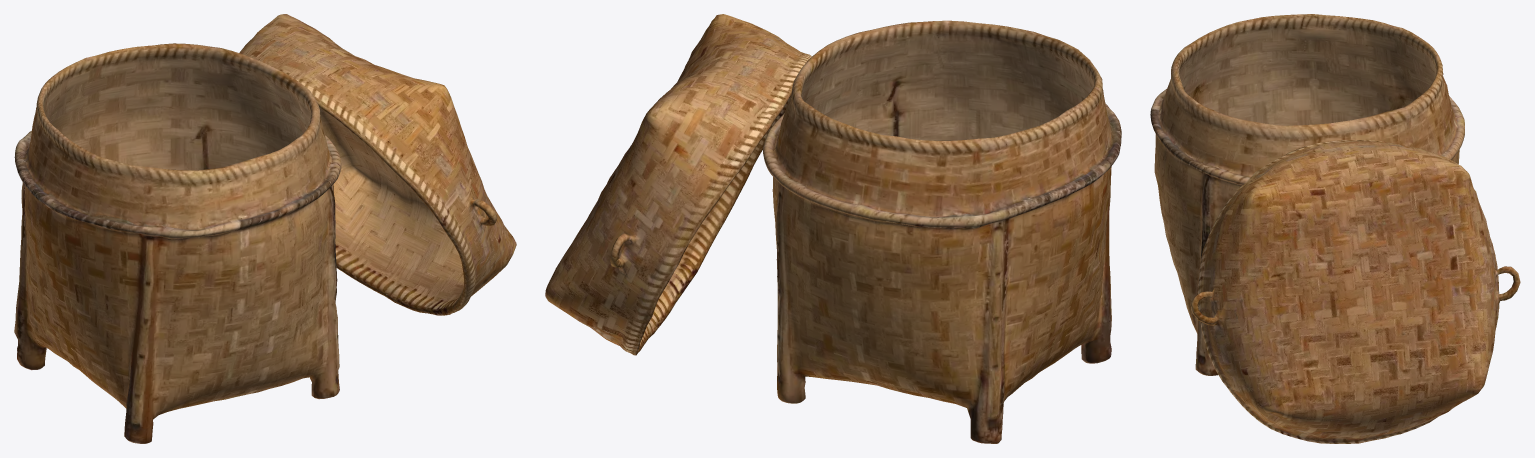
The model's file is wicker_basket_02.glb.
3 renders of one model, left to right at view 1: azimuth 30°, elevation 25°; view 2: azimuth 150°, elevation 25°; view 3: azimuth 270°, elevation 25°, orthographic. The views are drawn at different scales.
Visible parts, largest first — view 1: wicker_basket_02_base; view 2: wicker_basket_02_base; view 3: wicker_basket_02_base.
Part boxes in pixels (x1,y1,x2,y2): wicker_basket_02_base: [14, 14, 516, 443]; wicker_basket_02_base: [545, 14, 1121, 443]; wicker_basket_02_base: [1150, 14, 1520, 443].
Size of the model in its own units: 0.3469 by 0.2005 by 0.2544.
1 material, 1 textured.
